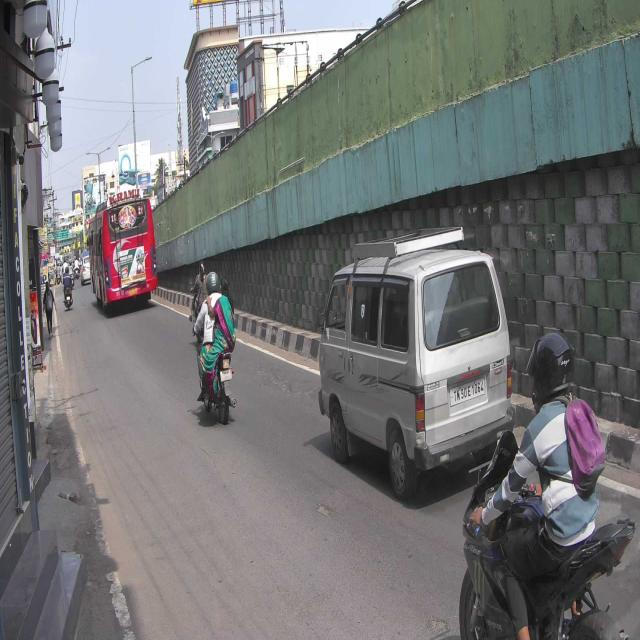double_rider: (194, 270, 238, 425)
single_rider: (458, 331, 640, 640)
